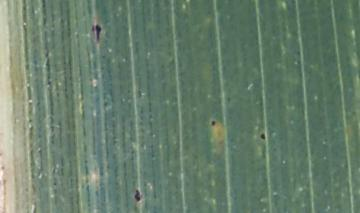tarspot: (93, 24, 102, 42), (133, 189, 142, 202), (258, 133, 267, 141), (209, 120, 217, 126)
